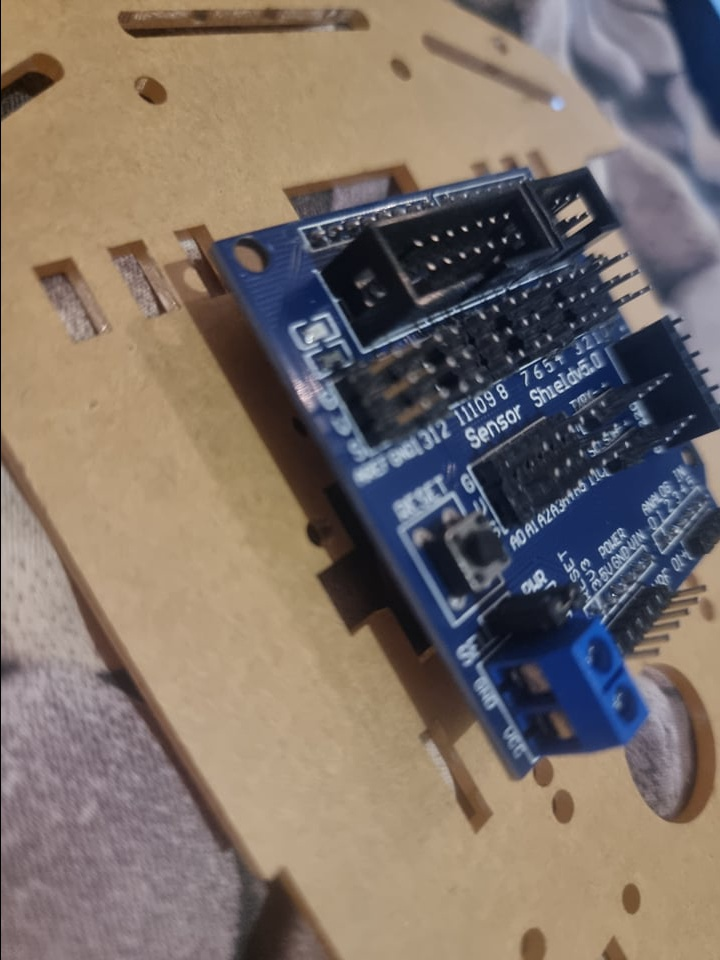5V EXPANSION: (207, 160, 719, 782)
